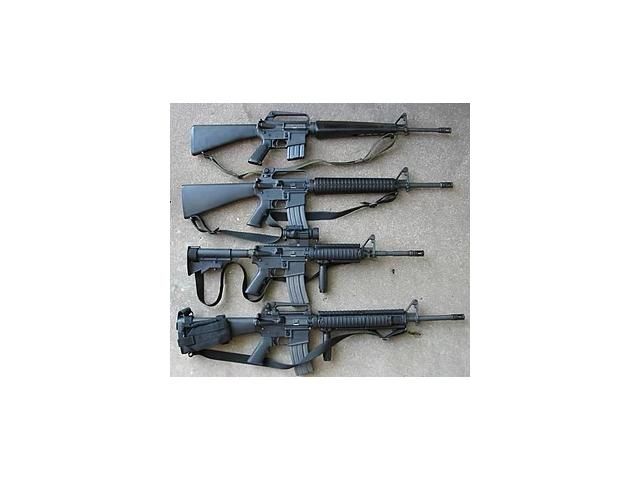rifle: (170, 303, 464, 380), (183, 169, 457, 229), (182, 242, 423, 303), (185, 112, 453, 165)
